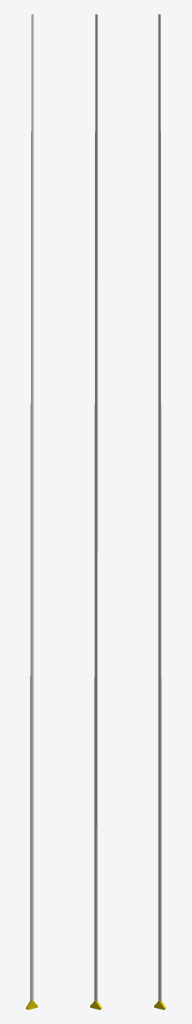
Rendered from SM_LightPole.fbx.
3 renders of one model, left to right at view 1: azimuth 30°, elevation 25°; view 2: azimuth 150°, elevation 25°; view 3: azimuth 330°, elevation 25°, orthographic.
Parts seen in each view (by area): view 1: SM_Lightpole; view 2: SM_Lightpole; view 3: SM_Lightpole.
Boxes of the visible parts, box(x1,y1,x2,y2) form: SM_Lightpole: box(26, 14, 37, 1009); SM_Lightpole: box(90, 14, 101, 1009); SM_Lightpole: box(154, 14, 165, 1009).
Bounding box in the file's own units: 5.95 × 25.43 × 2257.
